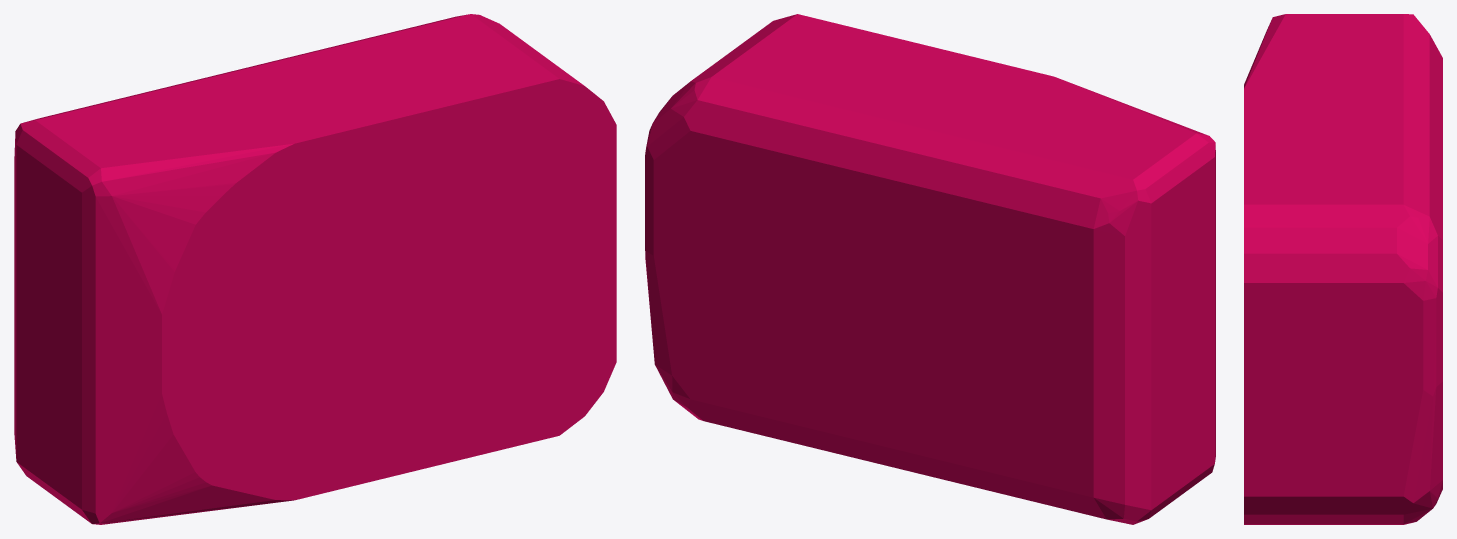
The model's file is model0_convex_piece_012.obj.
3 views of the same model, side by side, from view 1: azimuth 30°, elevation 25°; view 2: azimuth 150°, elevation 25°; view 3: azimuth 270°, elevation 25° (orthographic). The views are drawn at different scales.
Bounding box in the file's own units: 0.0188 × 0.0125 × 0.00704.
